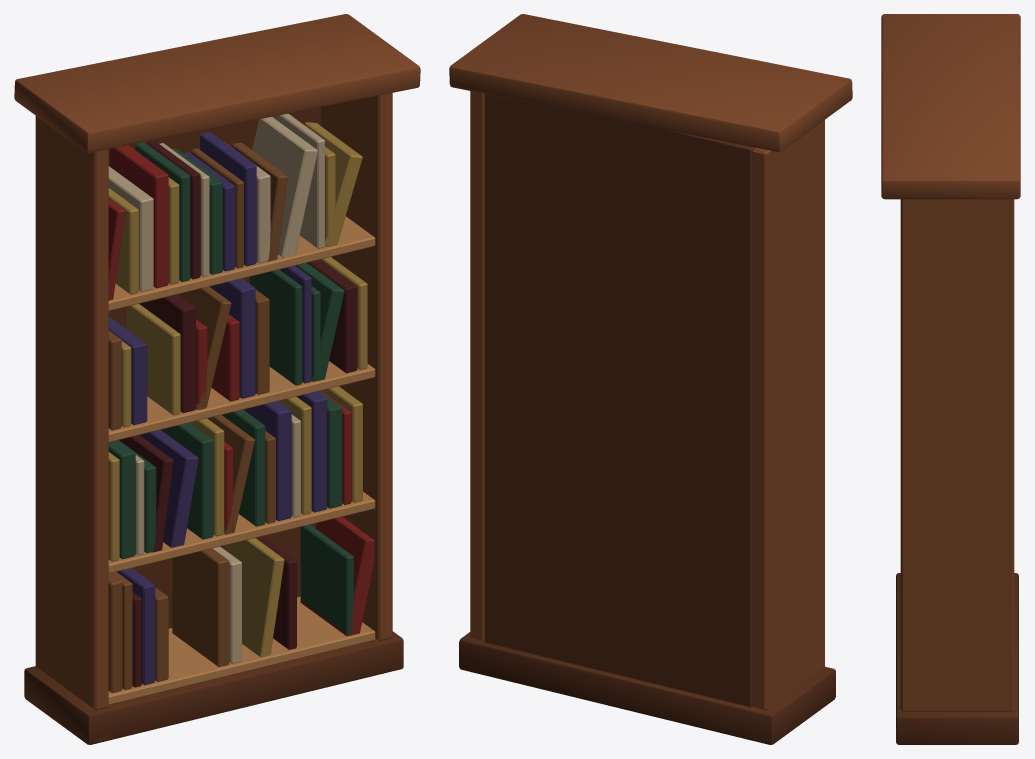
File: PR_Bookshelf.fbx
3 views of the same model, side by side, from view 1: azimuth 30°, elevation 25°; view 2: azimuth 150°, elevation 25°; view 3: azimuth 270°, elevation 25° (orthographic). The views are drawn at different scales.
Parts seen in each view (by area): view 1: PR_Bookshelf_Wood, PR_Bookshelf_Book1, PR_Bookshelf_Book2, PR_Bookshelf_Book4, PR_Bookshelf_Book3, PR_Bookshelf_WoodDark, PR_Bookshelf_WoodLight, PR_Bookshelf_Book5, PR_Bookshelf_Book0, PR_Bookshelf_Book6; view 2: PR_Bookshelf_WoodDark, PR_Bookshelf_Wood; view 3: PR_Bookshelf_Wood, PR_Bookshelf_WoodDark.
Boxes of the visible parts, x1,y1,x2,y2 form: PR_Bookshelf_Wood: (14, 14, 420, 710); PR_Bookshelf_Book1: (108, 142, 353, 634); PR_Bookshelf_Book2: (108, 122, 367, 657); PR_Bookshelf_Book4: (108, 142, 287, 692); PR_Bookshelf_Book3: (108, 132, 327, 685); PR_Bookshelf_WoodDark: (24, 107, 403, 744); PR_Bookshelf_WoodLight: (108, 216, 375, 704); PR_Bookshelf_Book5: (108, 113, 324, 663); PR_Bookshelf_Book0: (108, 145, 374, 635); PR_Bookshelf_Book6: (119, 140, 357, 687); PR_Bookshelf_WoodDark: (459, 94, 835, 744); PR_Bookshelf_Wood: (449, 14, 852, 710); PR_Bookshelf_Wood: (881, 14, 1020, 711); PR_Bookshelf_WoodDark: (896, 573, 1018, 744).
Bounding box in the file's own units: 1.12 × 1.99 × 0.43.
